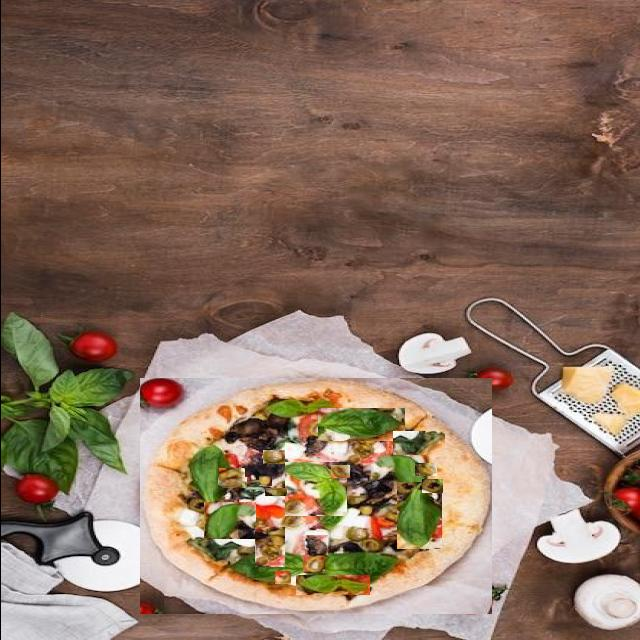basil: (1, 310, 132, 496), (284, 462, 346, 516), (396, 482, 441, 549), (232, 405, 315, 441), (317, 408, 404, 441), (203, 502, 255, 539), (295, 575, 369, 595), (392, 431, 444, 455)
olive: (254, 527, 284, 567), (304, 535, 327, 557), (302, 555, 324, 573), (217, 477, 246, 488), (272, 554, 298, 566), (262, 450, 284, 464), (421, 479, 442, 493), (218, 468, 244, 479), (414, 463, 436, 476), (247, 441, 270, 452), (330, 465, 349, 478), (274, 571, 290, 584), (264, 488, 286, 496), (237, 549, 253, 560), (256, 476, 270, 486)
pizza: (139, 378, 491, 614)
